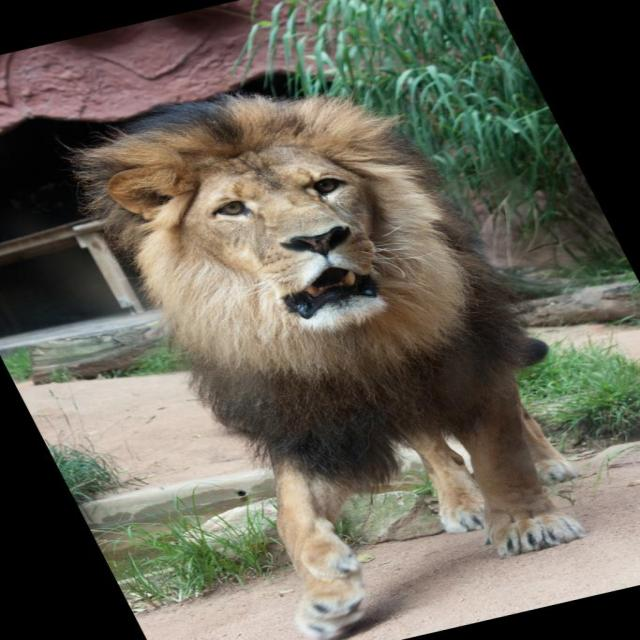Lion: (37, 48, 639, 640)
